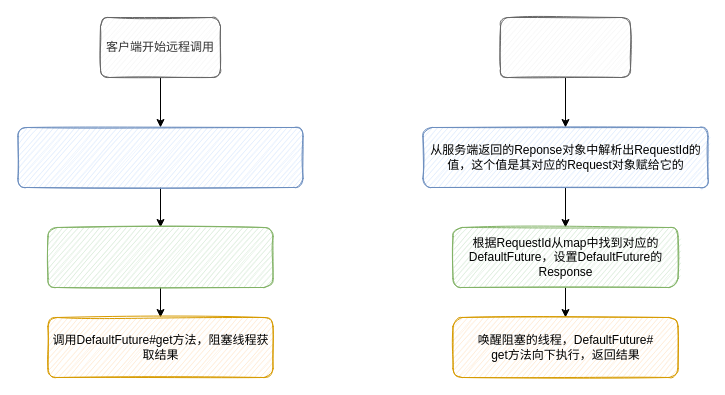
Some shapes in this 725 by 395 pixel diagram are drawn without their labels. Each missing label, with the centre of its shape:
"客户端异步收到响应" belongs at pixel 565 47.
"将RequestId->DefaultFuture的映射关系存到Map中" belongs at pixel 160 157.
"将请求包装成Request对象，含有RequestId属性，发起调用" belongs at pixel 160 257.
